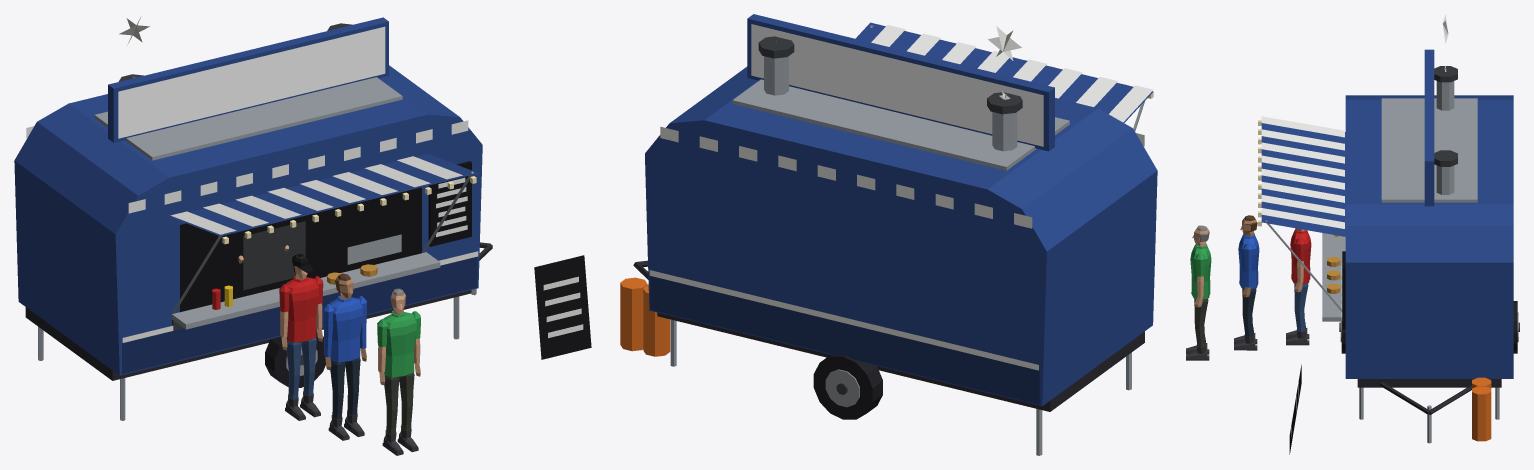
The model's file is catering_van.glb.
3 views of the same model, side by side, from view 1: azimuth 30°, elevation 25°; view 2: azimuth 150°, elevation 25°; view 3: azimuth 270°, elevation 25° (orthographic). The views are drawn at different scales.
Parts seen in each view (by area): view 1: Trailer, Queue; view 2: Trailer; view 3: Trailer, Queue.
Boxes of the visible parts, left/top/right/bottom form: Trailer: left=14, top=17, right=591, bottom=420; Queue: left=279, top=253, right=420, bottom=455; Trailer: left=620, top=14, right=1157, bottom=455; Trailer: left=1258, top=49, right=1519, bottom=454; Queue: left=1186, top=215, right=1311, bottom=360.
Size of the model in its own units: 5.3 by 4.03 by 4.18.
